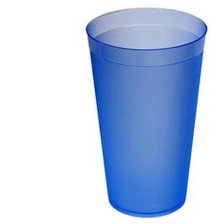glass: (80, 2, 209, 221)
